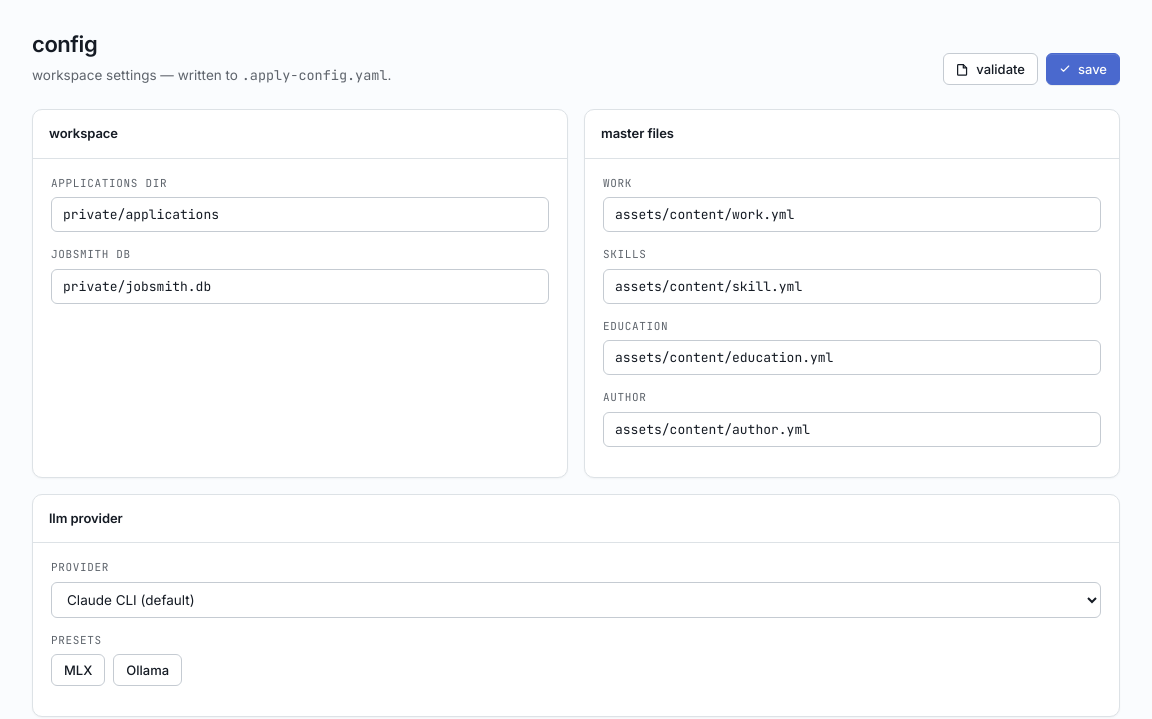
Test: ConfigView › shows 422 errors inline when PUT returns 422
Check: the 2nd field showing "assets/content/work.yml" is shown, box [603,197,1101,232]
Click the button "save" at [1083, 69], box [1046,53,1120,85]
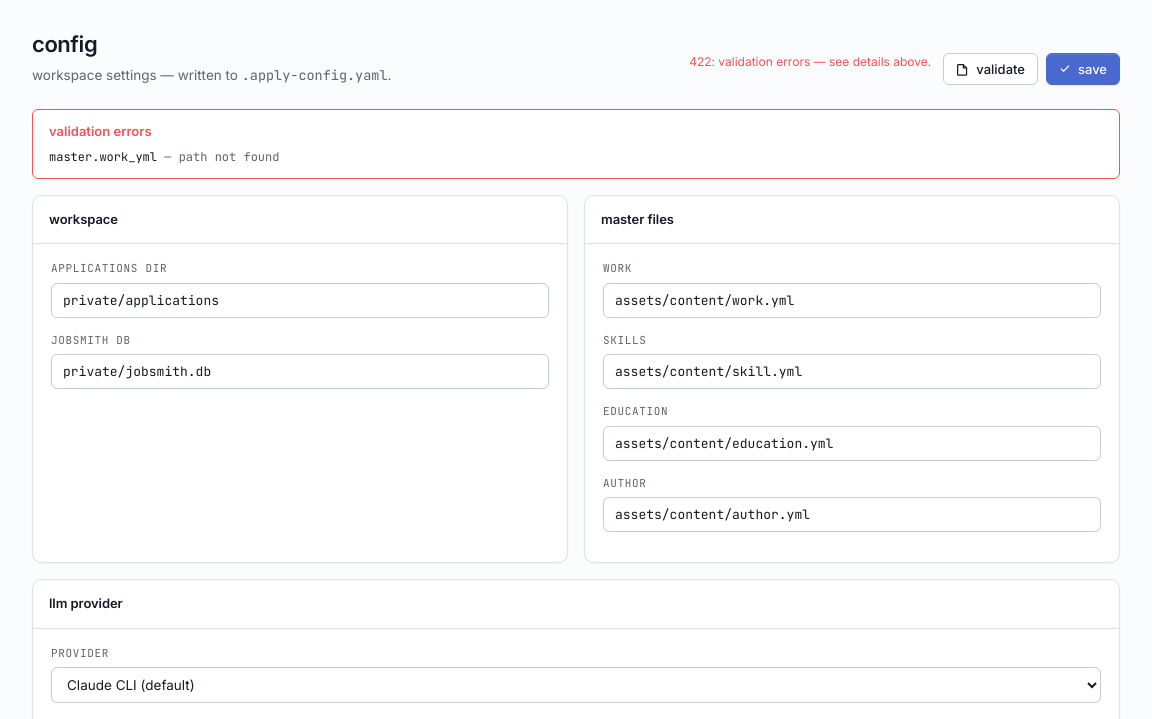
Check: the text "validation errors" is shown, box [49,123,152,139]
Check: the text "master.work_yml" is shown, box [49,149,157,165]
